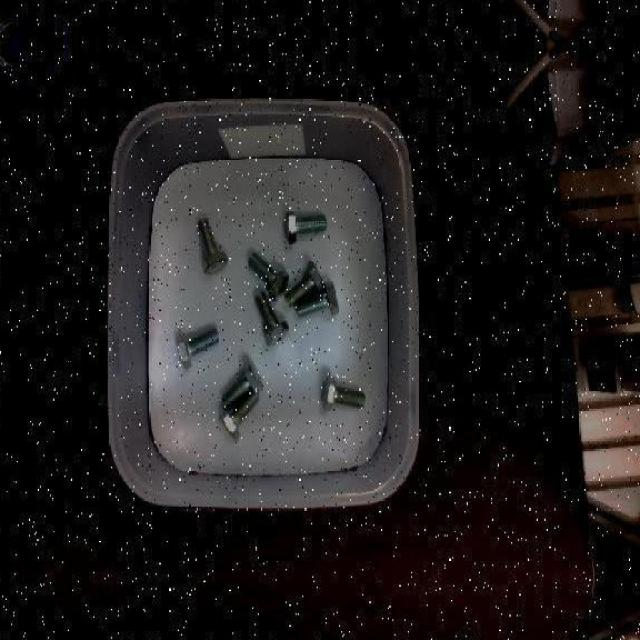screw: (222, 360, 264, 409), (219, 392, 260, 441), (254, 291, 290, 346), (284, 261, 326, 308), (248, 254, 289, 302), (177, 328, 221, 369), (198, 218, 229, 274), (322, 372, 367, 410), (295, 280, 339, 318), (286, 210, 328, 244)
